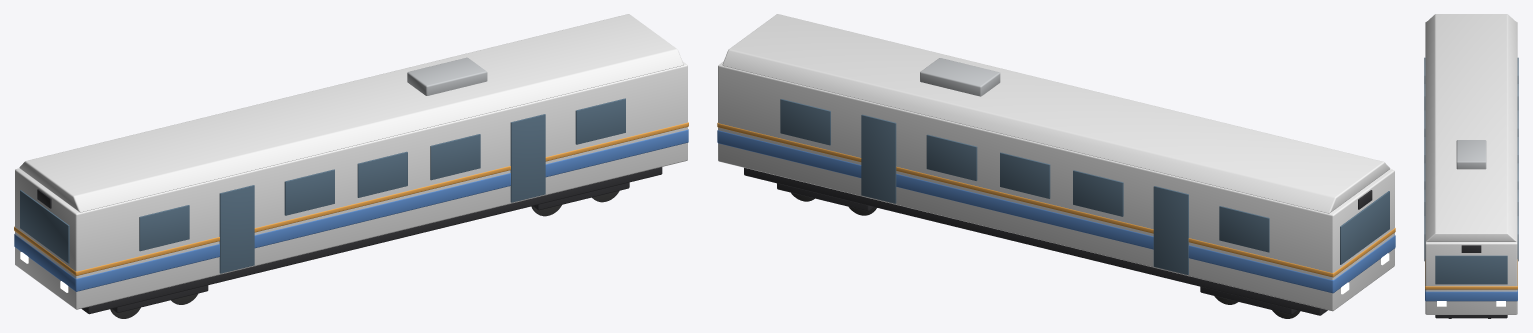
Rendered from densha.glb.
3 views of the same model, side by side, from view 1: azimuth 30°, elevation 25°; view 2: azimuth 150°, elevation 25°; view 3: azimuth 270°, elevation 25° (orthographic). The views are drawn at different scales.
Parts seen in each view (by area): view 1: densha; view 2: densha; view 3: densha.
Boxes of the visible parts, x1,y1,x2,y2 form: densha: (14, 14, 688, 318); densha: (717, 14, 1395, 318); densha: (1424, 14, 1518, 318).
Bounding box in the file's own units: 16.09 × 3.85 × 2.86.
